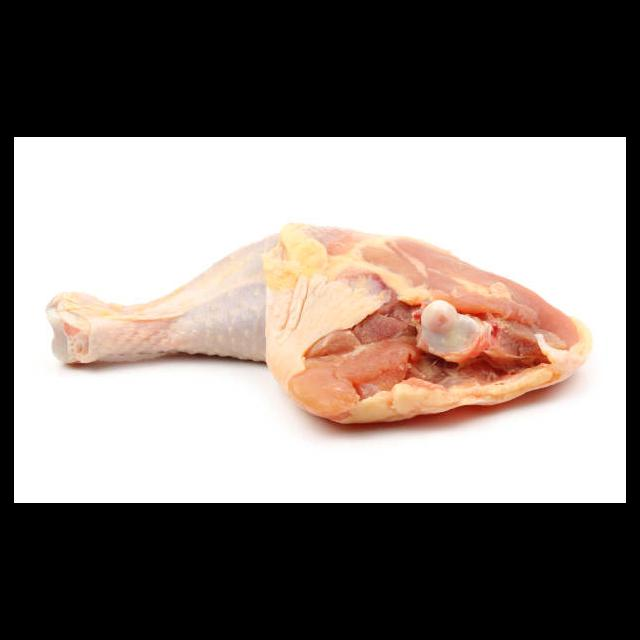chicken: (46, 223, 593, 422)
